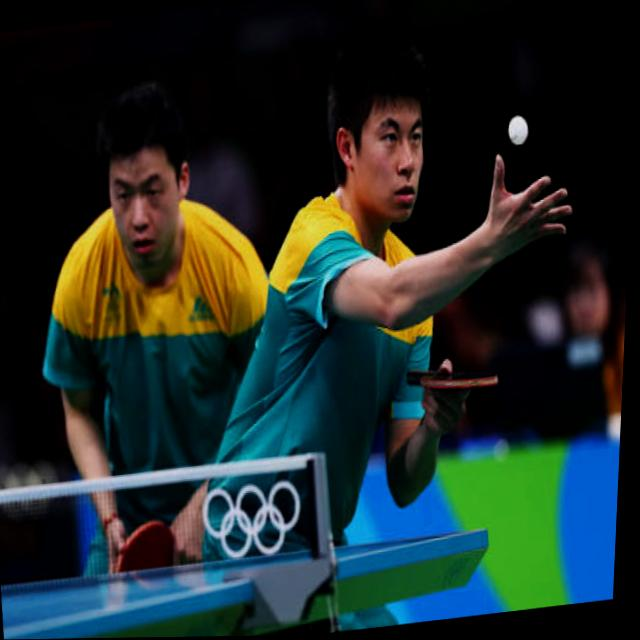TT Net: (0, 446, 333, 595)
TT Racket: (106, 511, 181, 594), (404, 362, 501, 395)
TT Table: (2, 530, 481, 640)
